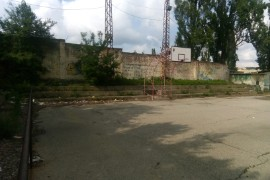trash: (28, 148, 45, 163), (29, 97, 49, 107)
